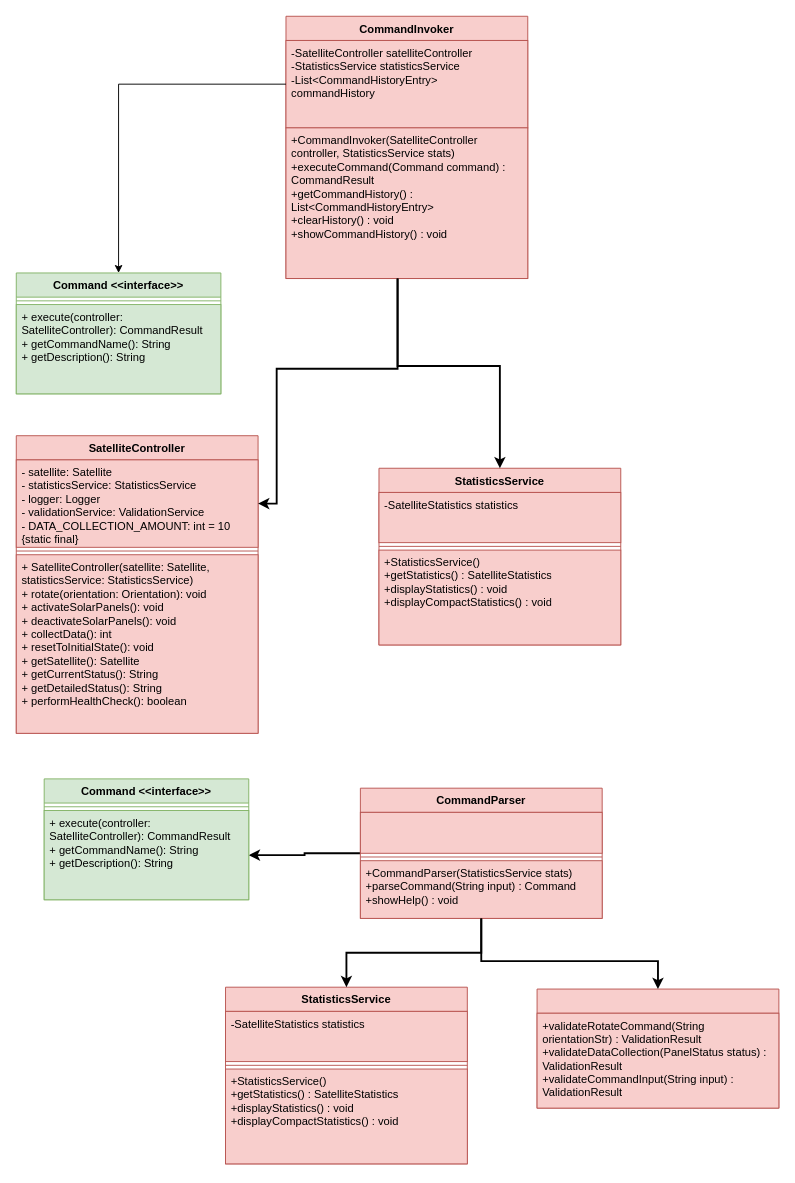
The diagram is 795 pixels wide and 1183 high, and some of its shapes have lost their labels. The box of each missing label's shape, as (x1, y1, x2, y2) in pixels:
-ValidationService validationService -StatisticsService statisticsService: (359, 811, 602, 853)
ValidationService: (536, 988, 779, 1108)
